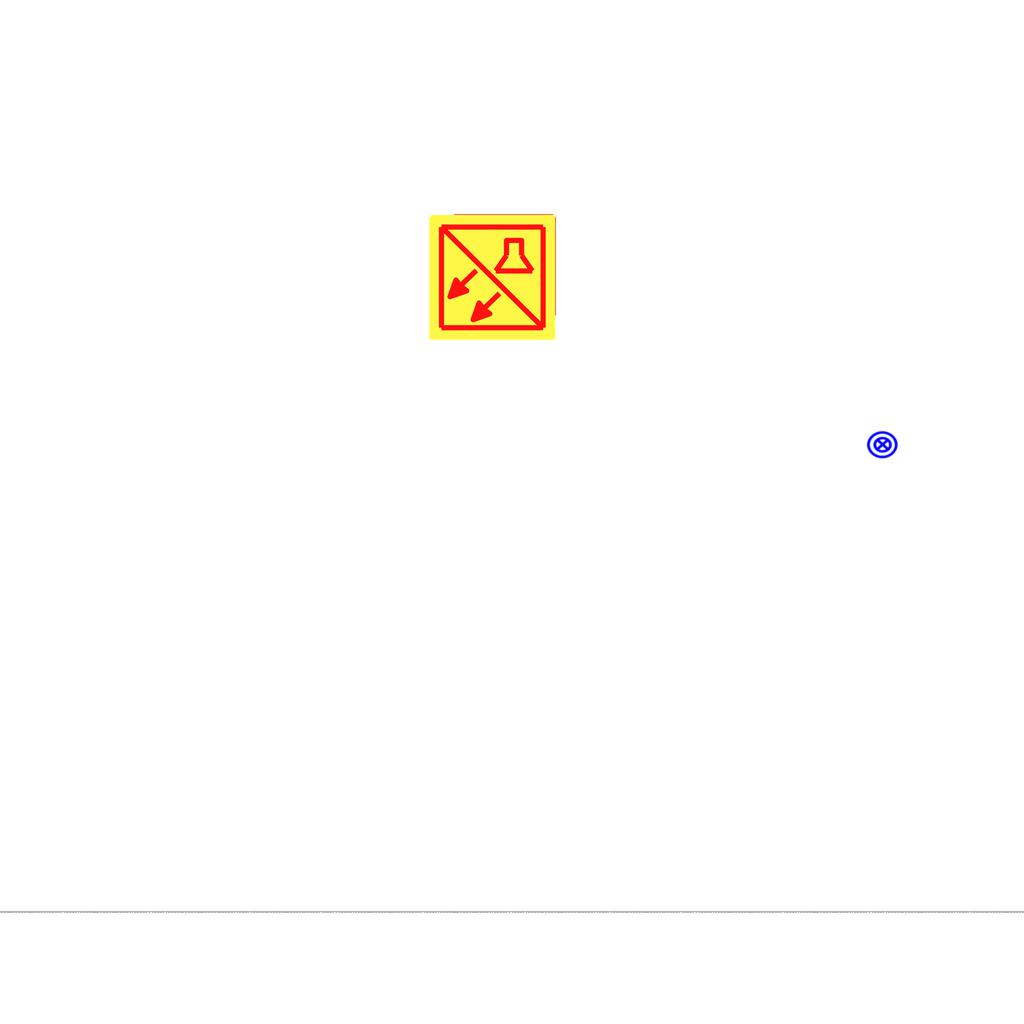OKW_Multisensormelder_(Kombination_optischer_Rauch-Kahlenmonoxid_Waerme-Melder): (426, 211, 558, 343)
Taster_beleuchtet: (866, 428, 899, 461)
